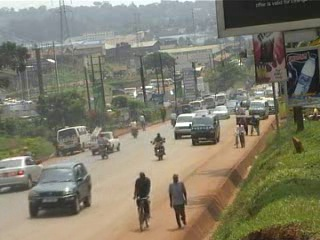Car: (27, 160, 92, 217), (0, 154, 47, 193), (170, 111, 200, 139), (211, 103, 231, 120), (179, 102, 196, 119), (235, 95, 253, 109), (228, 98, 240, 113)
Motorcycle: (148, 134, 170, 161), (126, 118, 143, 140), (97, 136, 110, 160), (167, 111, 177, 129), (232, 102, 241, 117)
